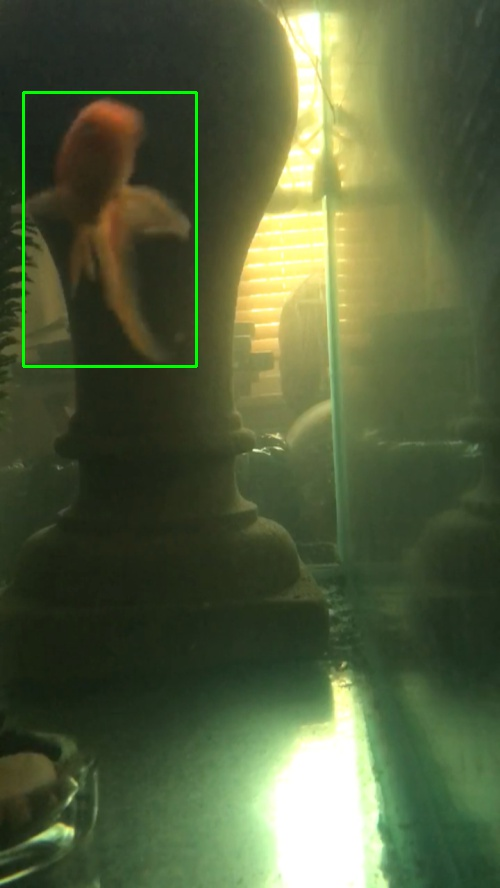goldfish: (22, 91, 198, 368)
